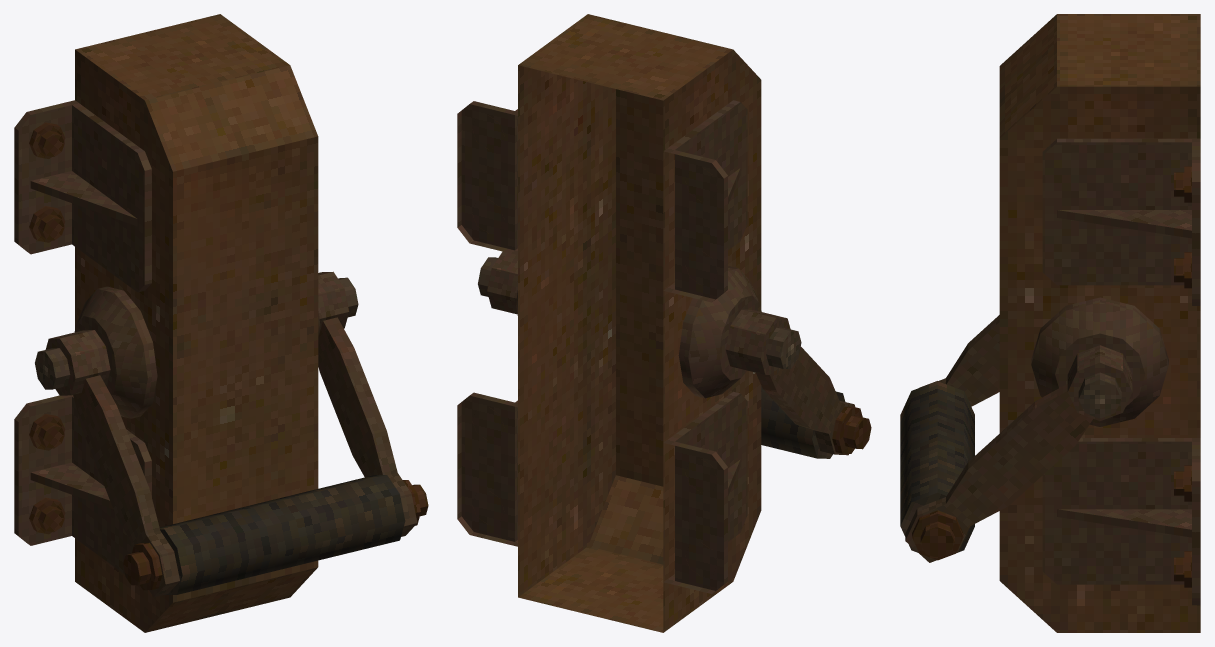
Rendered from lever_etx_9.glb.
3 views of the same model, side by side, from view 1: azimuth 30°, elevation 25°; view 2: azimuth 150°, elevation 25°; view 3: azimuth 270°, elevation 25° (orthographic). The views are drawn at different scales.
Parts seen in each view (by area): view 1: lever_etx_9, lever_etx_9_child; view 2: lever_etx_9, lever_etx_9_child; view 3: lever_etx_9, lever_etx_9_child.
Boxes of the visible parts, x1=… form: lever_etx_9: x1=14, y1=14, x2=320, y2=632; lever_etx_9_child: x1=35, y1=271, x2=428, y2=597; lever_etx_9: x1=457, y1=14, x2=761, y2=632; lever_etx_9_child: x1=478, y1=251, x2=871, y2=458; lever_etx_9: x1=999, y1=14, x2=1200, y2=632; lever_etx_9_child: x1=900, y1=315, x2=1132, y2=562.
Bounding box in the file's own units: 0.225 × 0.378 × 0.1882.
1 material, 1 textured.
